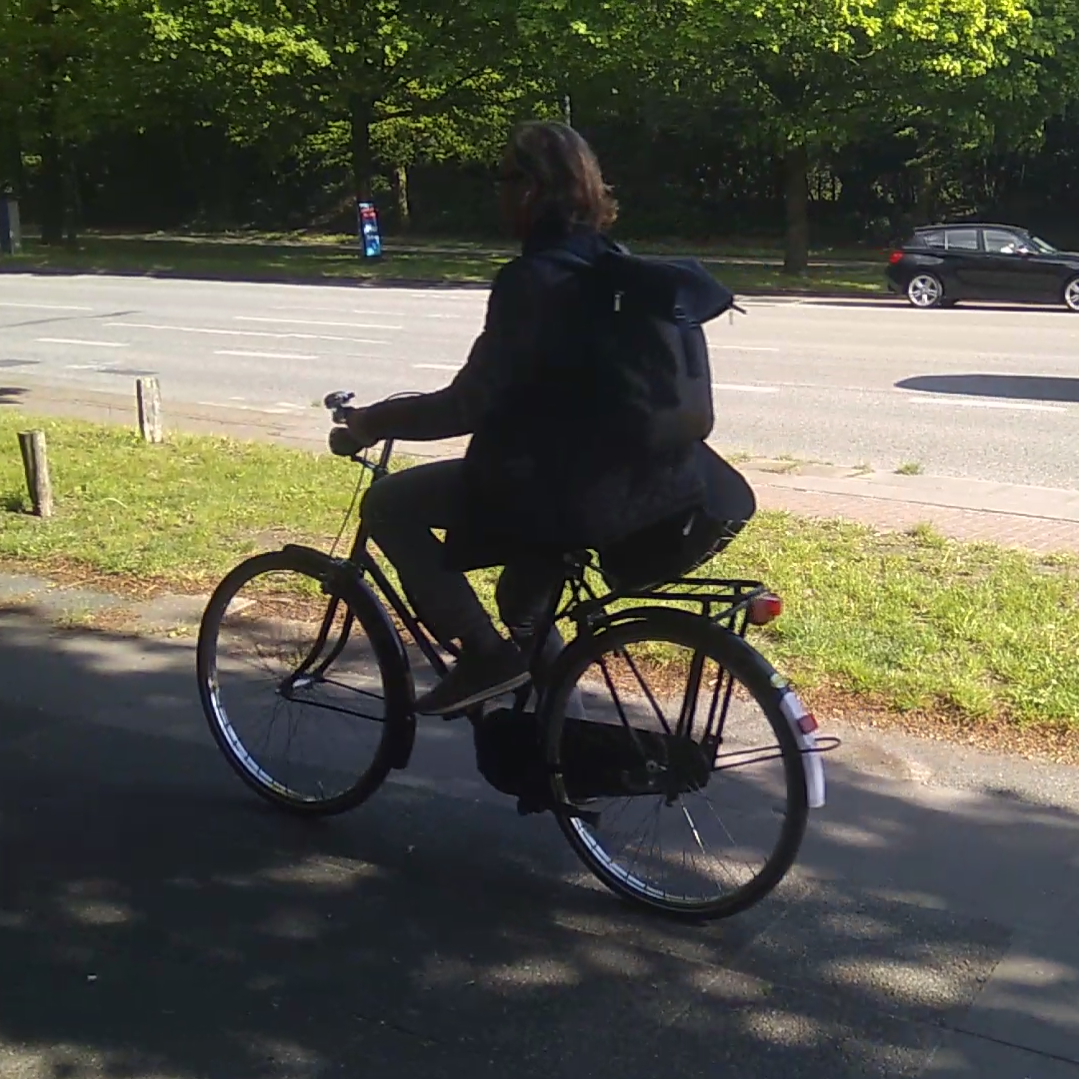bike_left: (188, 114, 840, 930)
